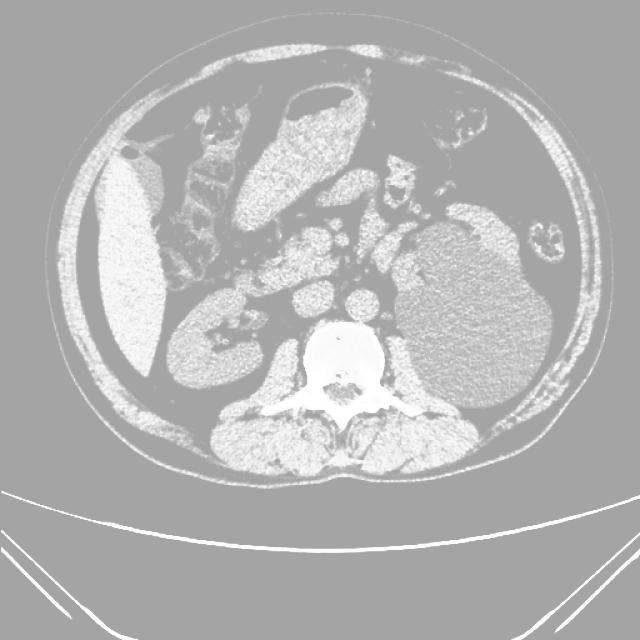cysts: (54, 37, 601, 485)
